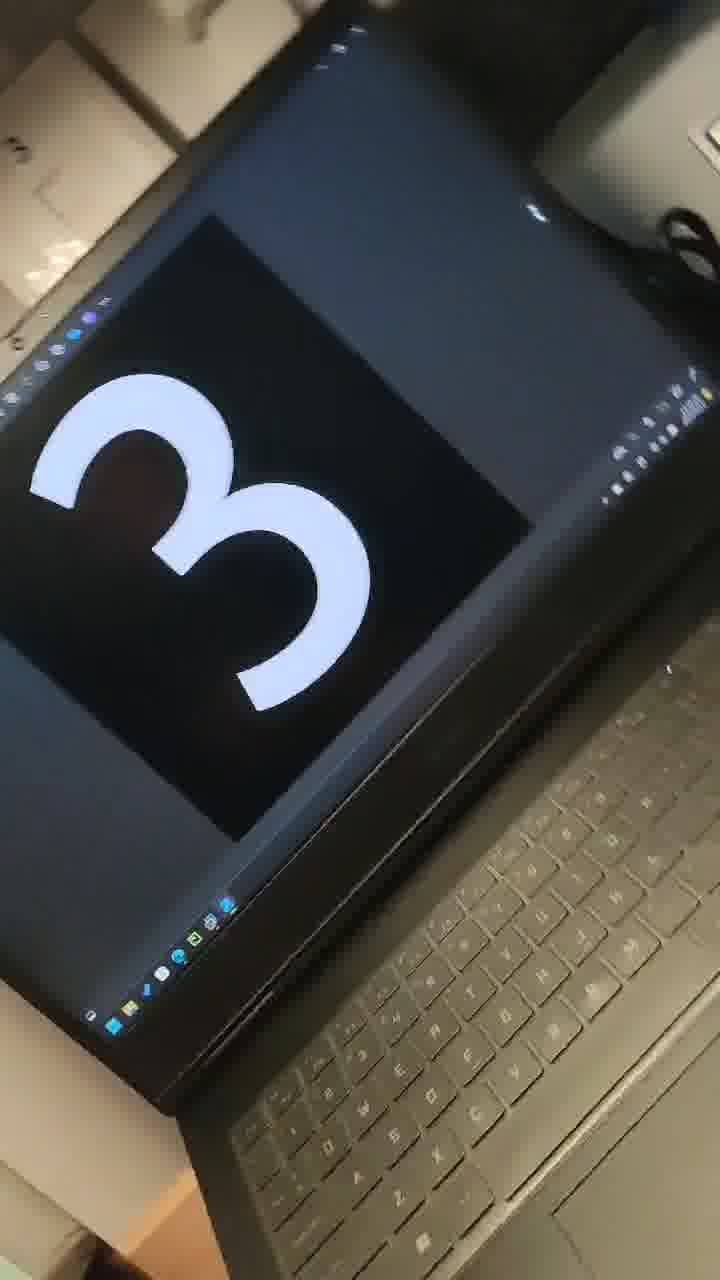three: (29, 326, 407, 765)
